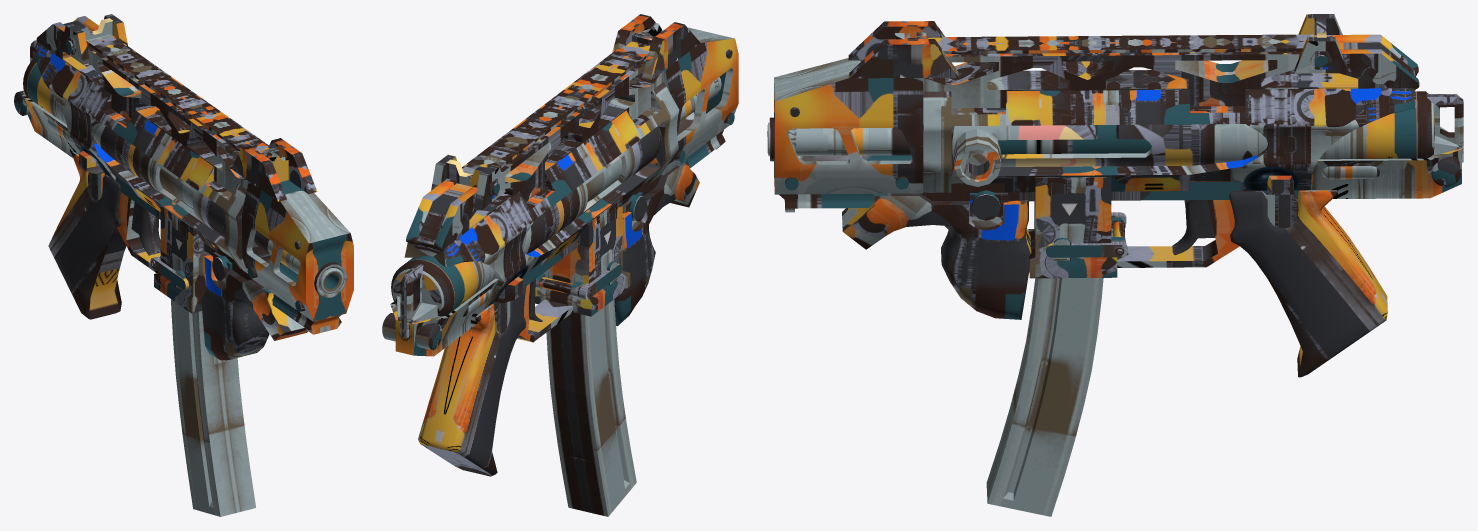
The model's file is jk_wuqi.FBX.
3 views of the same model, side by side, from view 1: azimuth 30°, elevation 25°; view 2: azimuth 150°, elevation 25°; view 3: azimuth 270°, elevation 25° (orthographic). The views are drawn at different scales.
Visible parts, largest first — view 1: weapon_master; view 2: weapon_master; view 3: weapon_master.
Part boxes in pixels (x1=…): weapon_master: x1=14, y1=14, x2=353, y2=516; weapon_master: x1=382, y1=14, x2=738, y2=516; weapon_master: x1=767, y1=14, x2=1463, y2=516.
Size of the model in its own units: 3.74 by 15.88 by 21.01.
